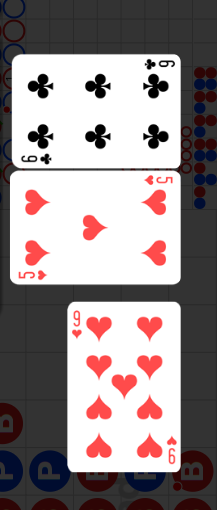5H: (17, 269, 49, 282)
6C: (20, 151, 54, 165)
9H: (165, 434, 177, 465)
